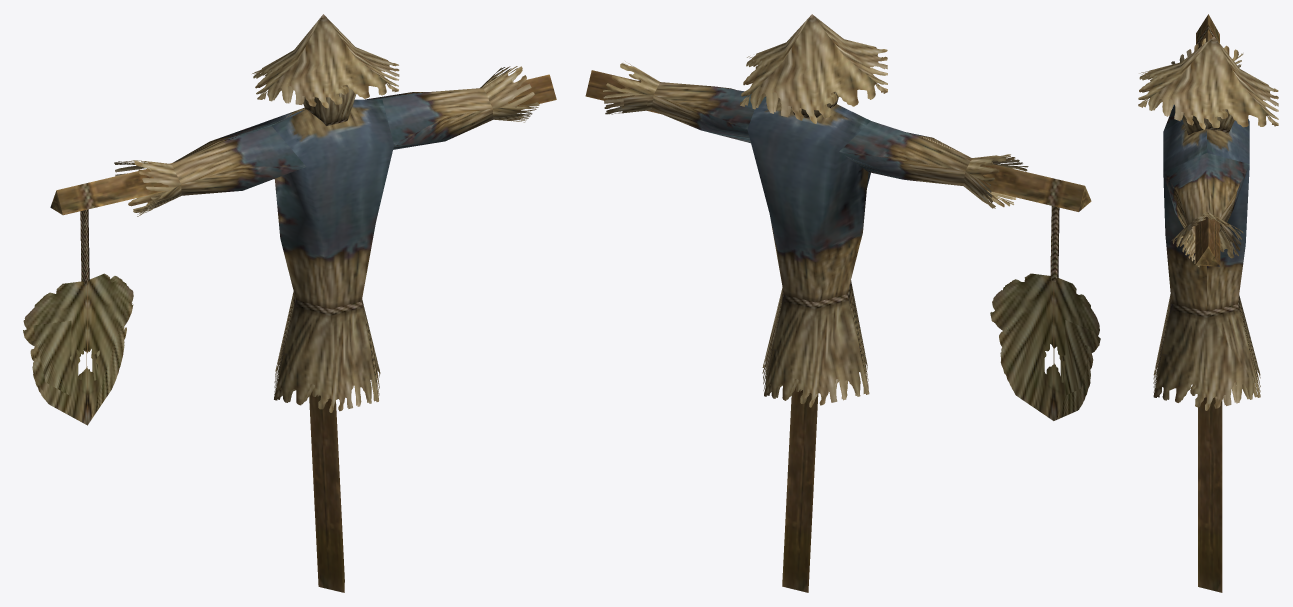
Rendered from daocaoren_tyc_20.FBX.
The picture shows the model from 3 angles, left to right: view 1: azimuth 30°, elevation 25°; view 2: azimuth 150°, elevation 25°; view 3: azimuth 270°, elevation 25°; orthographic projection. The views are drawn at different scales.
Parts seen in each view (by area): view 1: objpolySurface982; view 2: objpolySurface982; view 3: objpolySurface982.
Boxes of the visible parts, x1,y1,x2,y2 form: objpolySurface982: (23, 14, 556, 592); objpolySurface982: (585, 14, 1100, 592); objpolySurface982: (1138, 14, 1278, 592).
Size of what is drawn, in the model's own units: 239 by 250 by 58.33.
